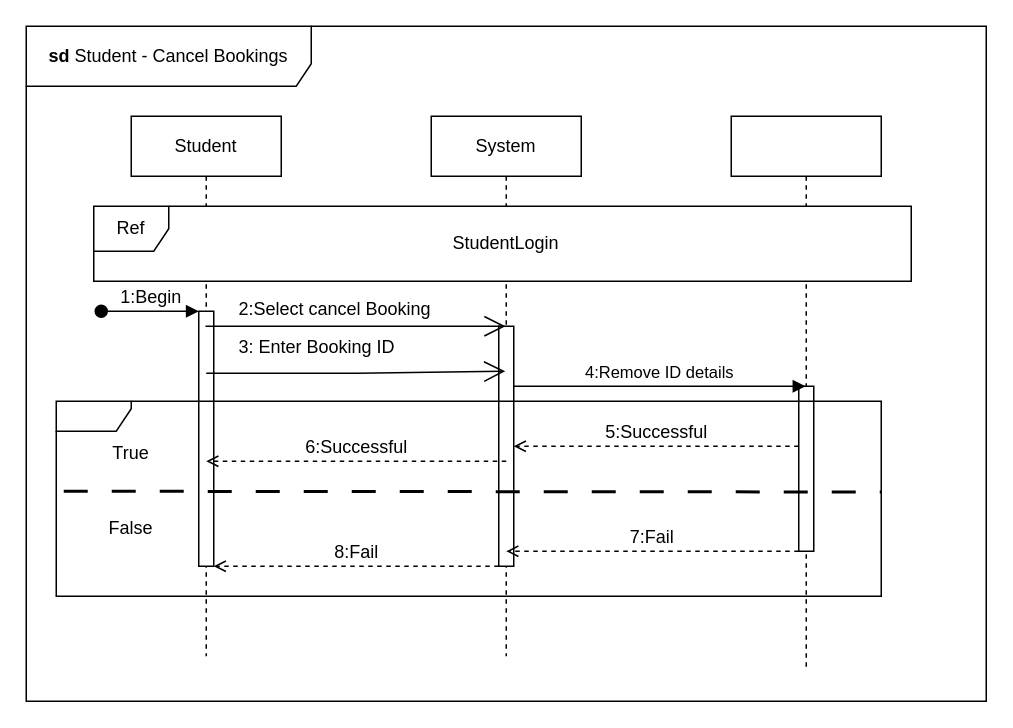
This 1013x728 diagram has some shape labels left out. The shapes that lost their labels are listed below. From the top down, each one's centre as x and y in pixels, then its label:
At (x=805, y=393): "Database".
At (x=468, y=498): "alt".
